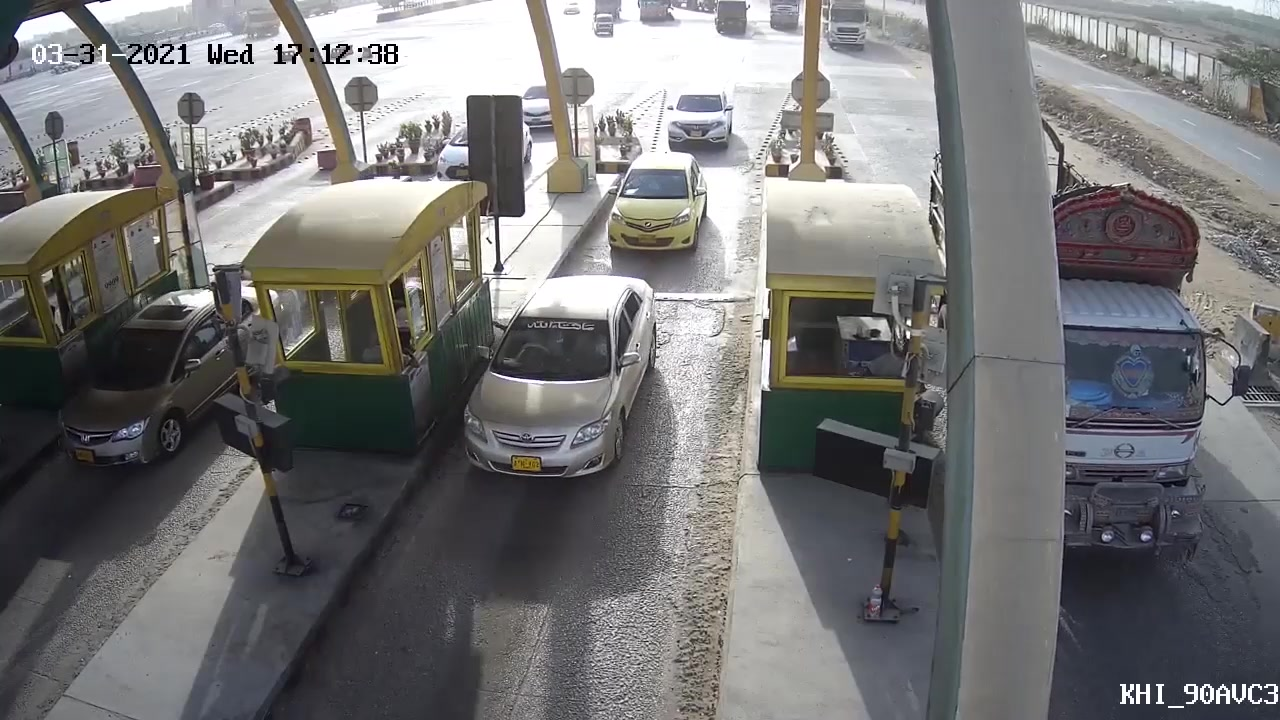F1: (451, 270, 657, 488), (594, 148, 713, 259)
